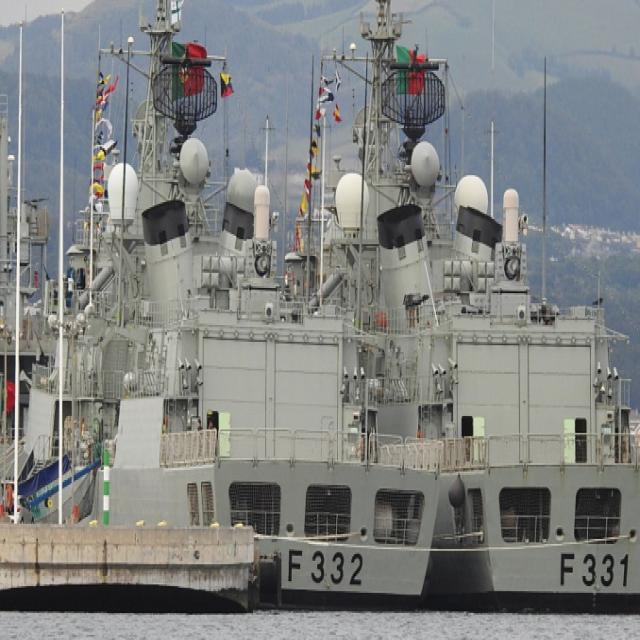Fragata: (77, 1, 439, 616), (352, 1, 640, 629)
